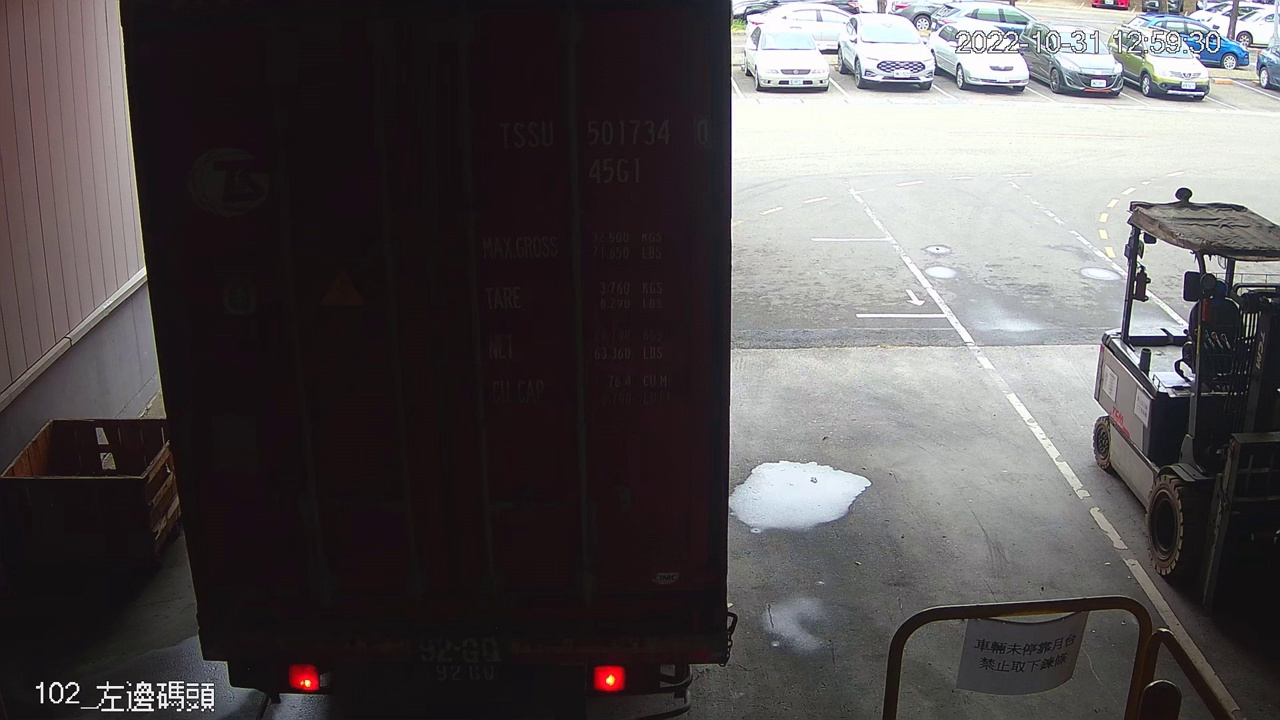container: (486, 105, 717, 194)
